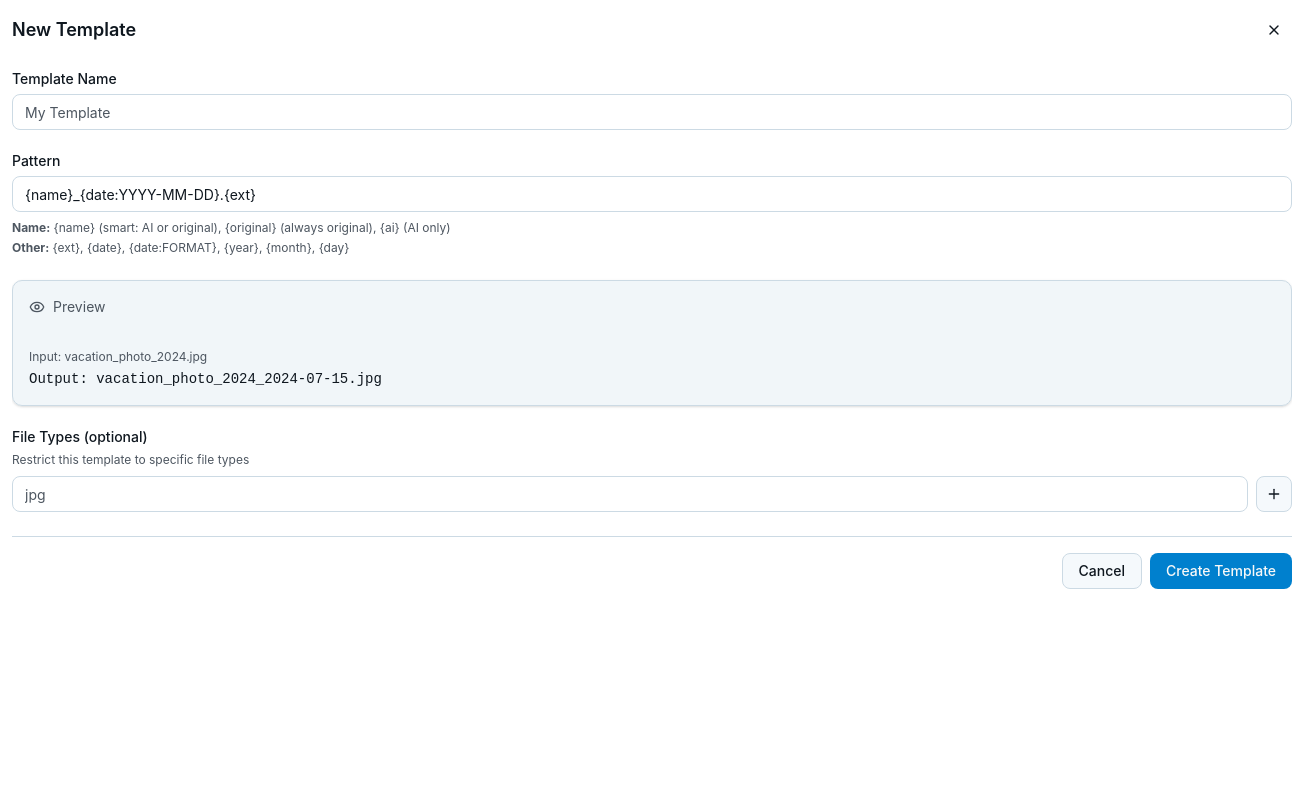
TemplateEditor › form validation › shows error when pattern is empty
Fill name but clear pattern
In the field with test id "template-name-input": (652, 112) [12,94,1292,130], type "Test"
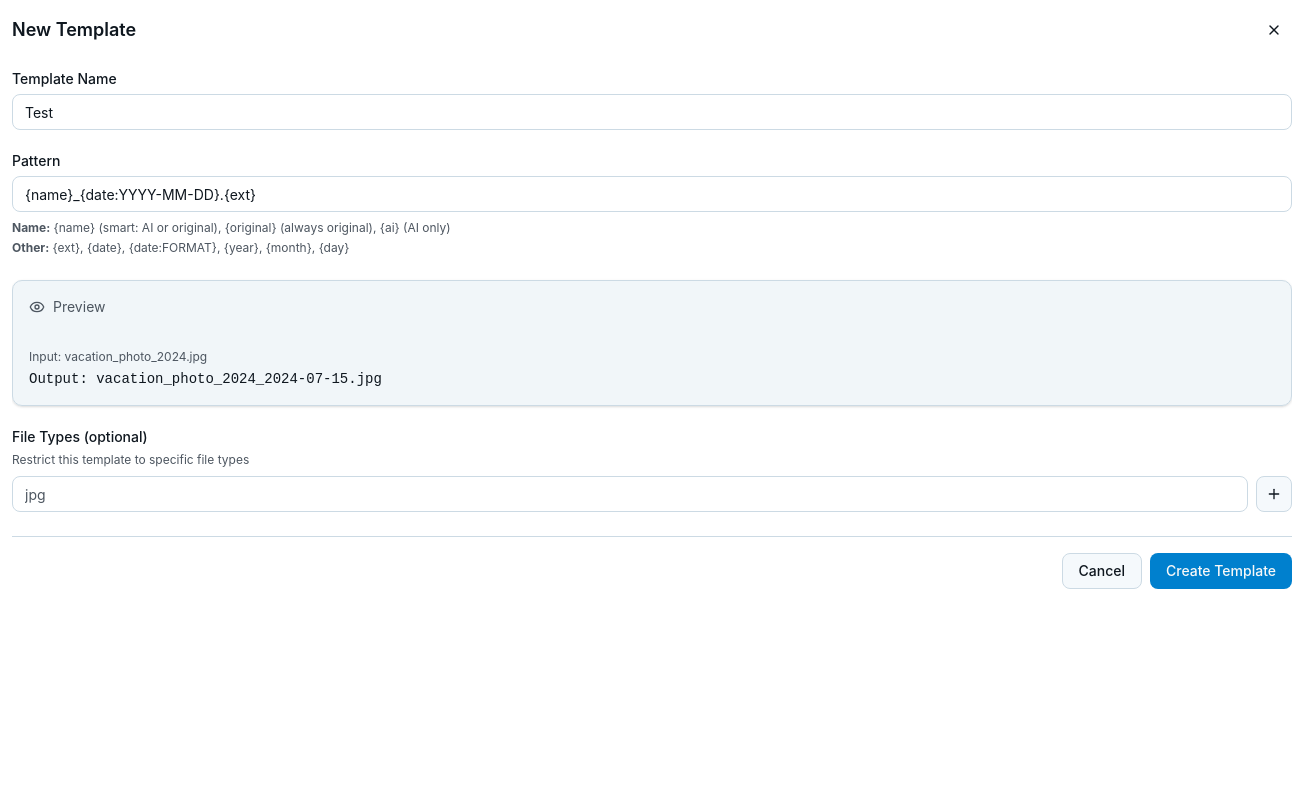
Clear the field with test id "template-pattern-input": (652, 194) [12,176,1292,212]
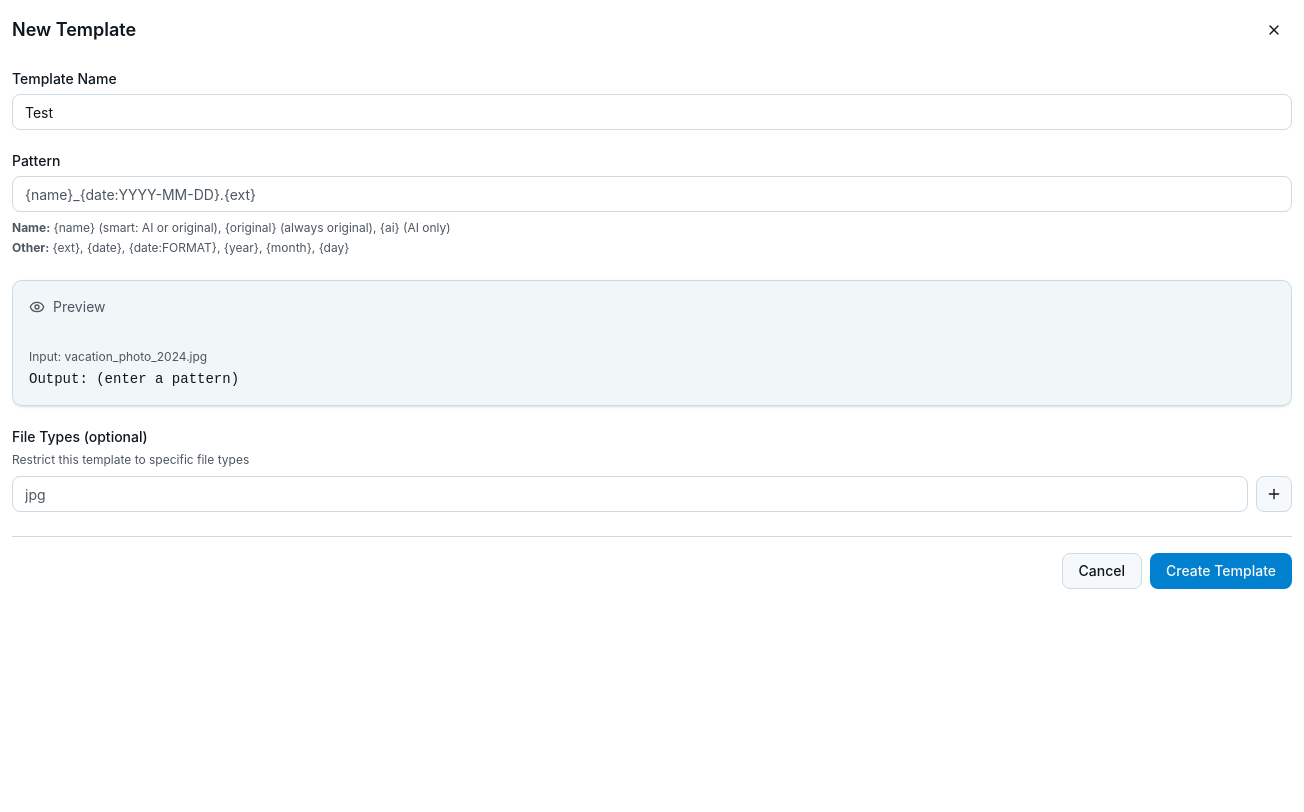
Click the button with test id "save-button": (1221, 571) [1150,553,1292,589]
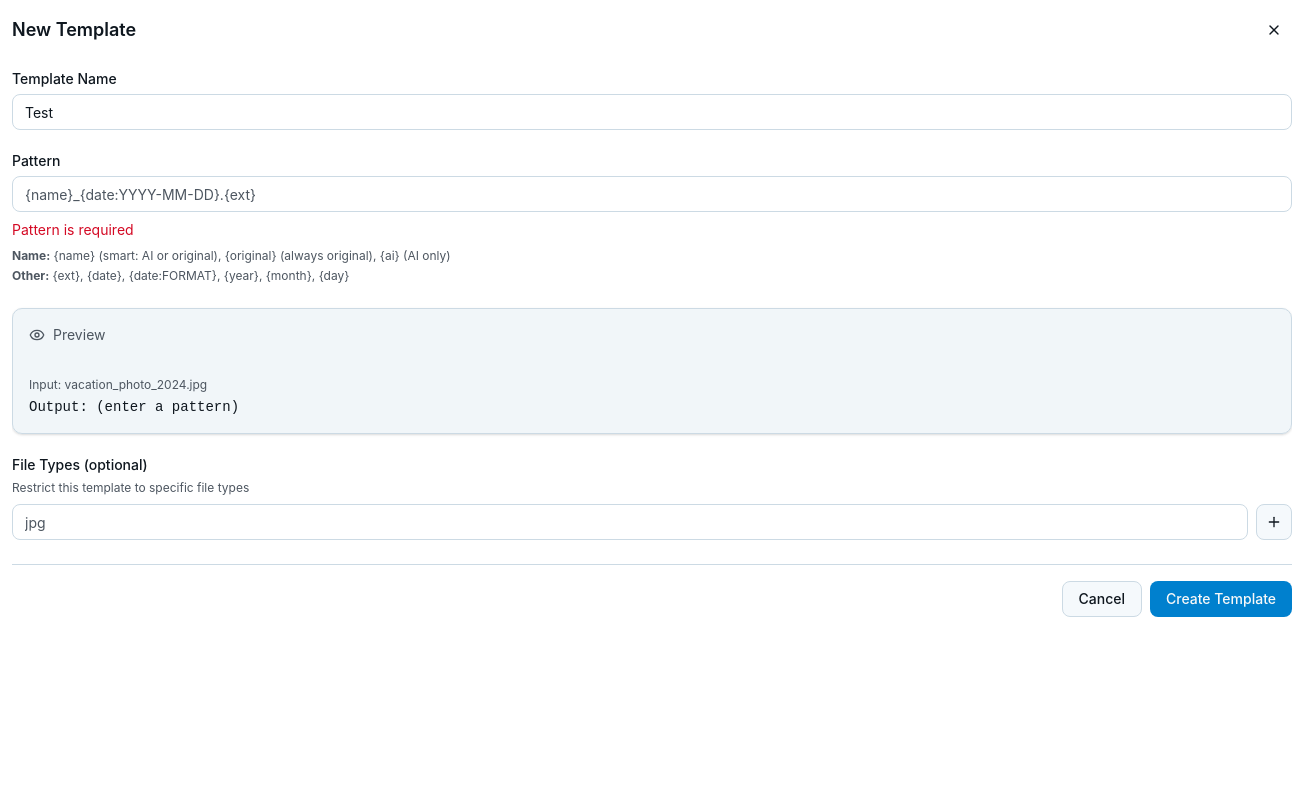
Now the text "Pattern is required" is shown, box [12,221,134,238]
